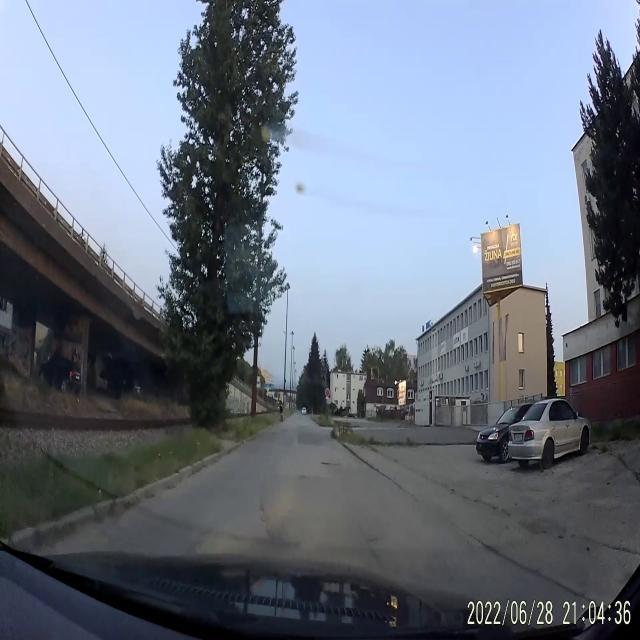Pothole: (320, 458, 340, 469), (297, 472, 309, 482)
